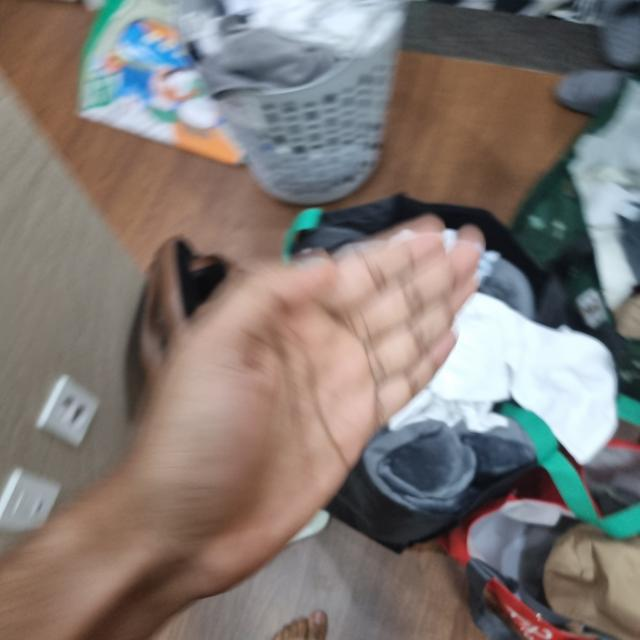Paper: (117, 216, 487, 592)
